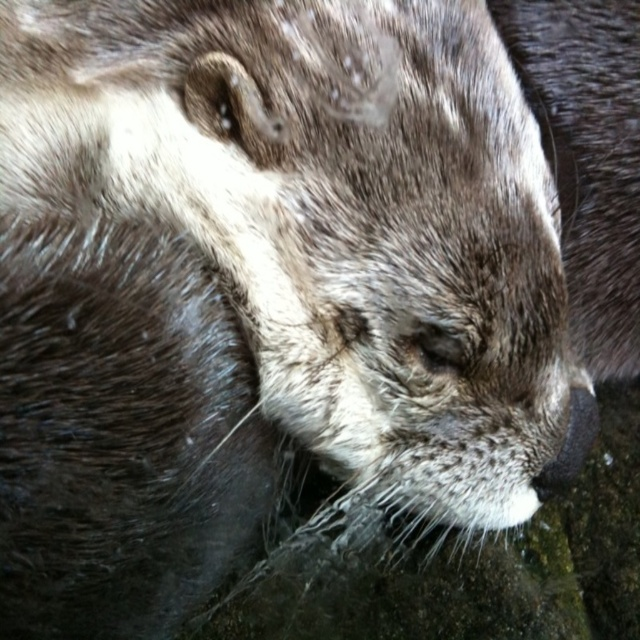Otter: (0, 0, 640, 619)
